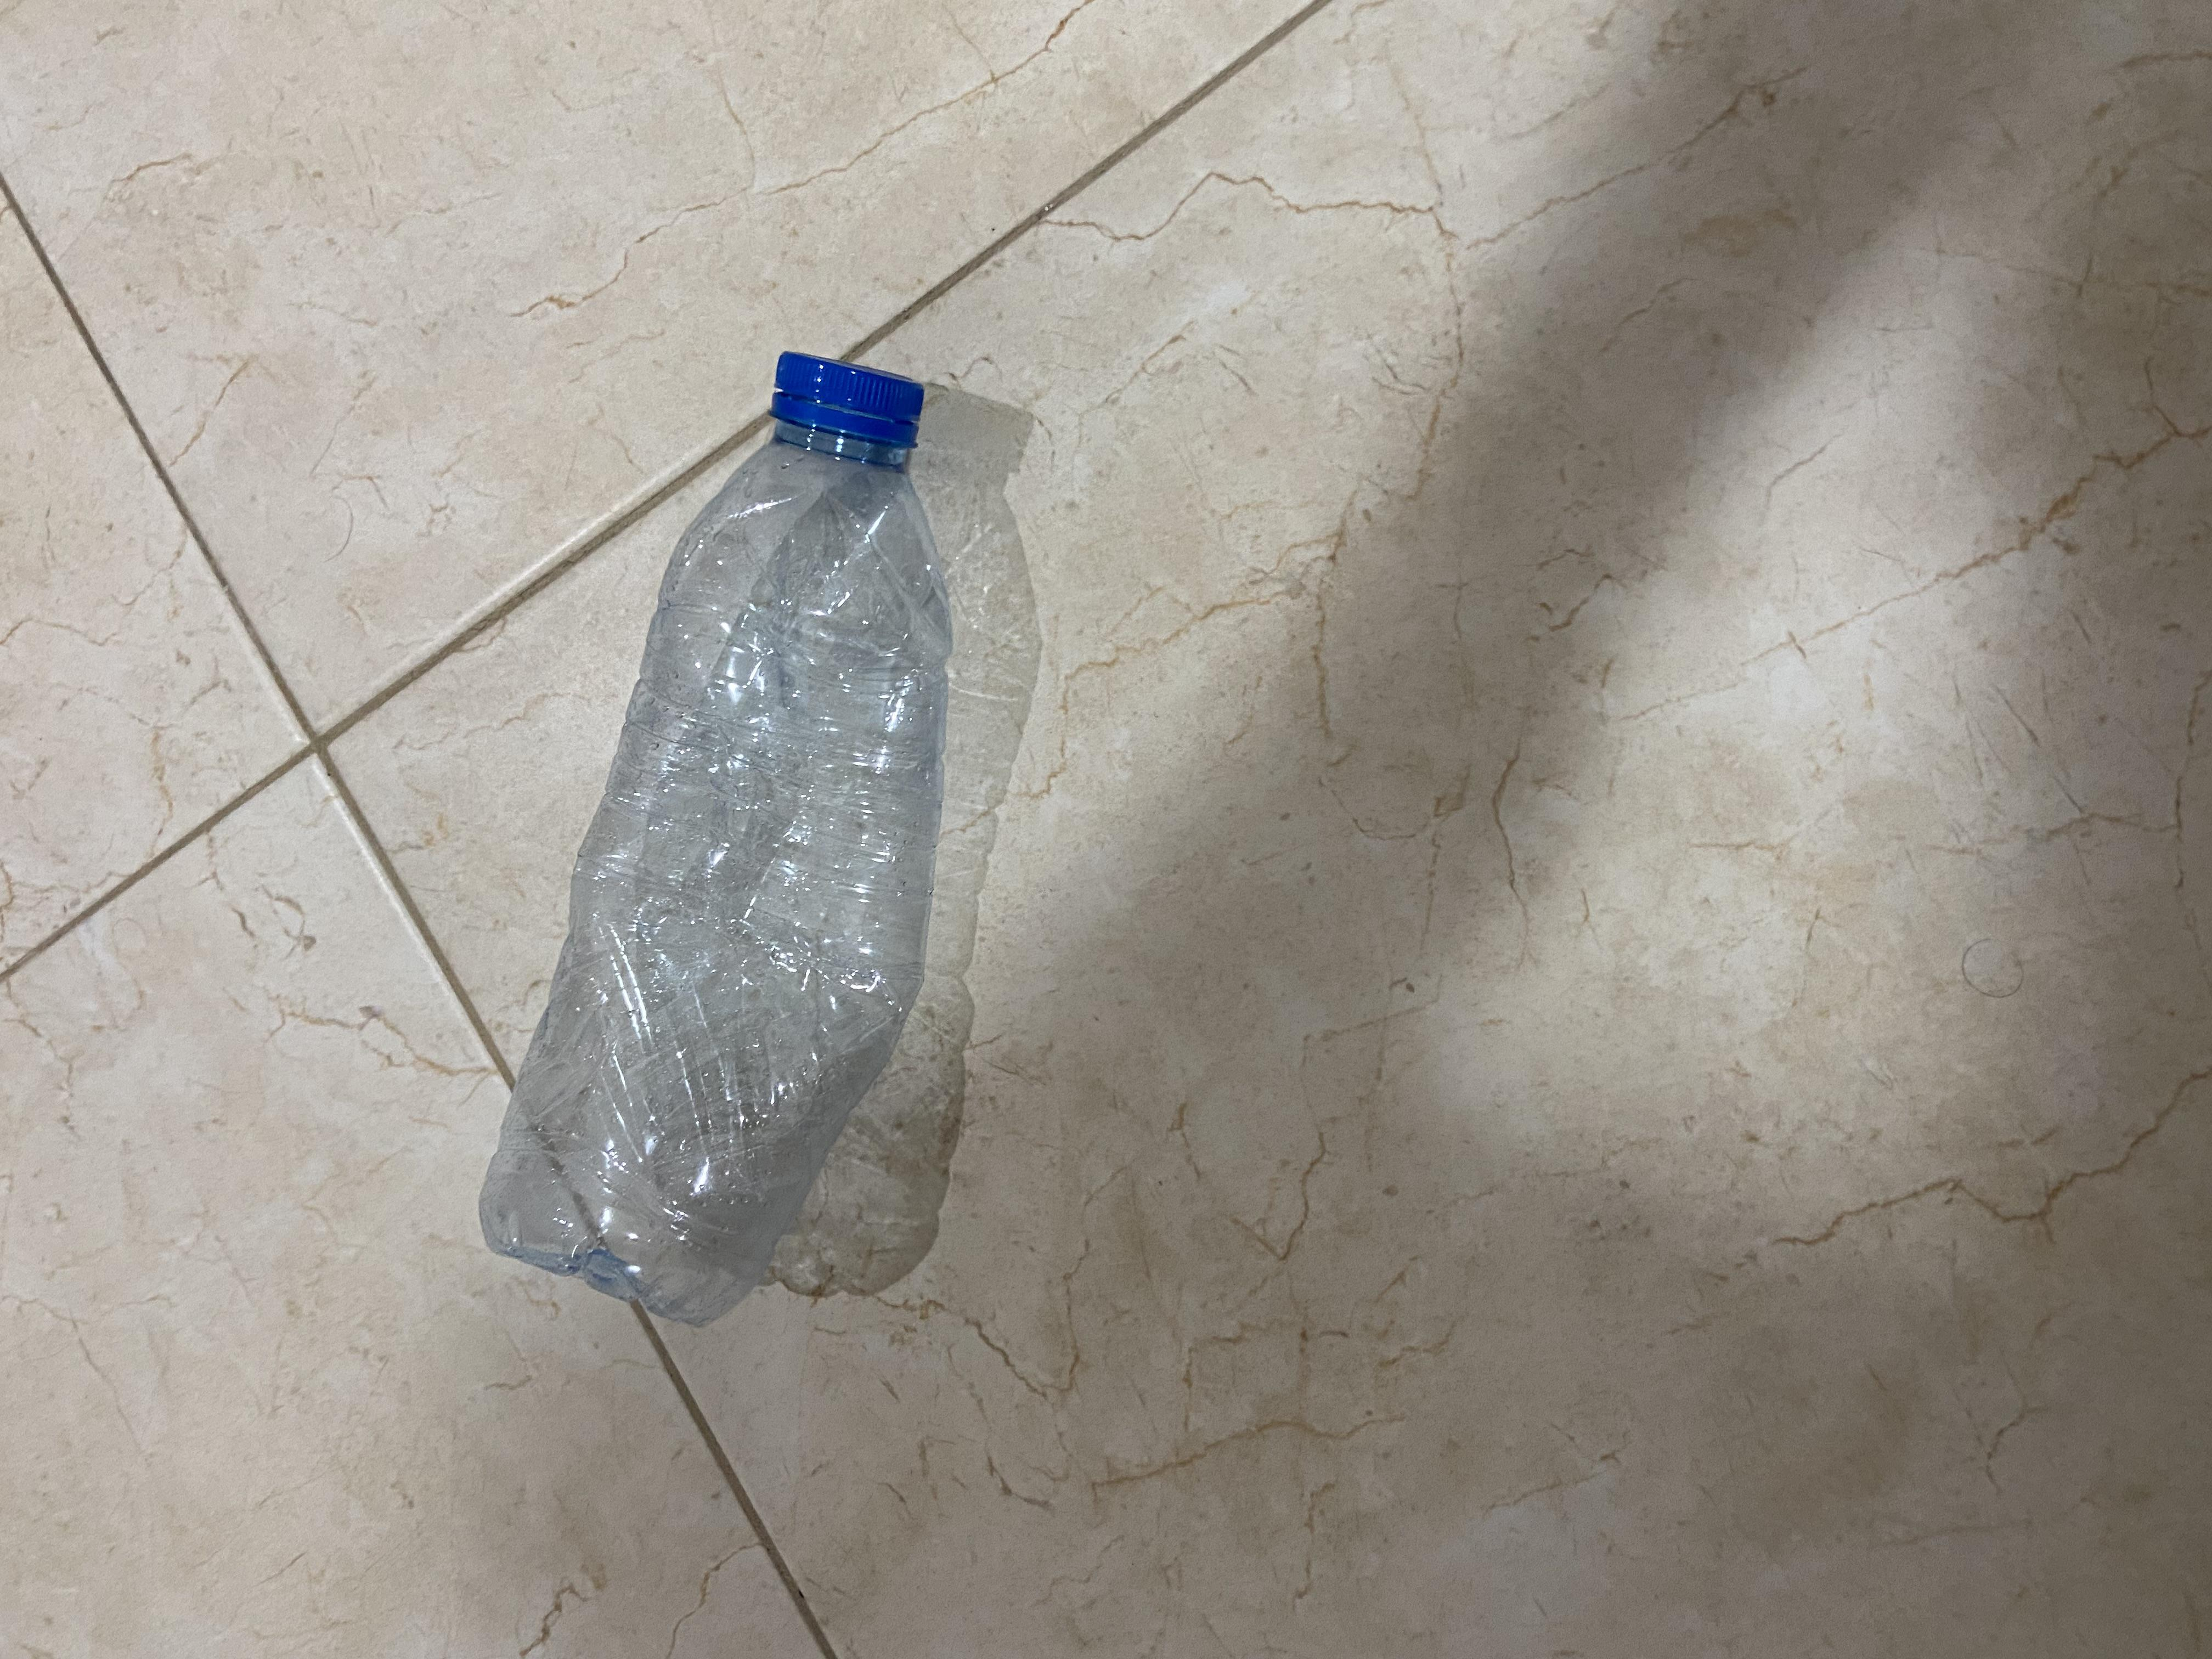bottle: (413, 356, 1799, 753)
